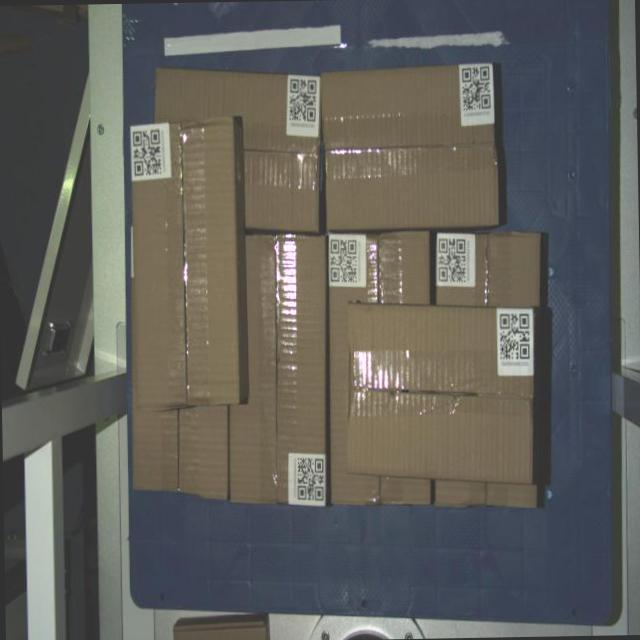box: (342, 301, 538, 487), (130, 116, 239, 412), (320, 61, 500, 231)
